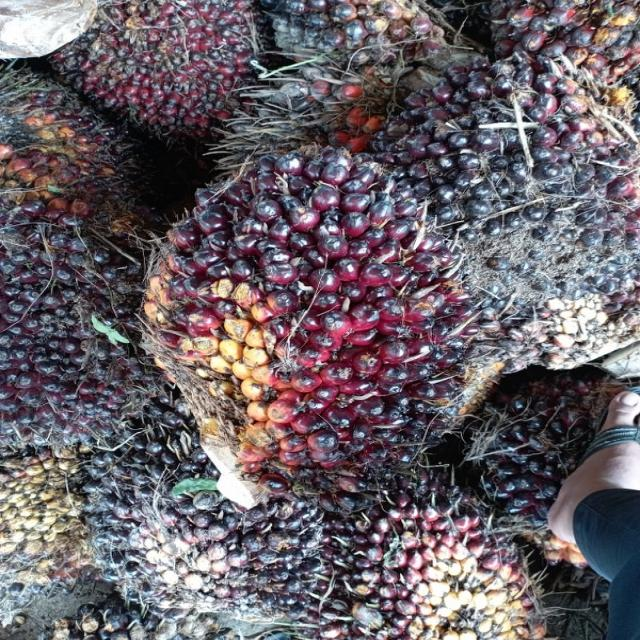fraksi 1: (96, 134, 518, 496)
